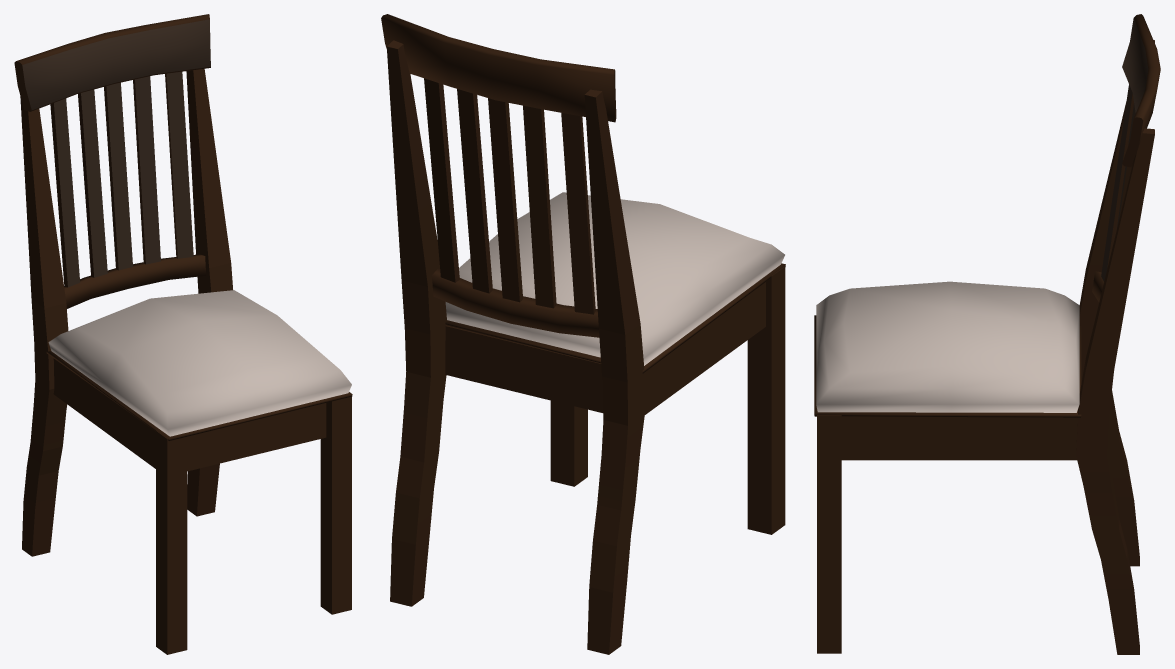
Rendered from chair.fbx.
The picture shows the model from 3 angles, left to right: view 1: azimuth 30°, elevation 25°; view 2: azimuth 150°, elevation 25°; view 3: azimuth 270°, elevation 25°; orthographic projection. The views are drawn at different scales.
Parts seen in each view (by area): view 1: Chair_Traditional_Light; view 2: Chair_Traditional_Light; view 3: Chair_Traditional_Light.
Boxes of the visible parts, x1,y1,x2,y2 form: Chair_Traditional_Light: (14,14,352,654); Chair_Traditional_Light: (381,14,785,654); Chair_Traditional_Light: (814,14,1160,654).
Bounding box in the file's own units: 36.03 × 86.46 × 50.33.
Materials: 1 (1 with a texture image).
